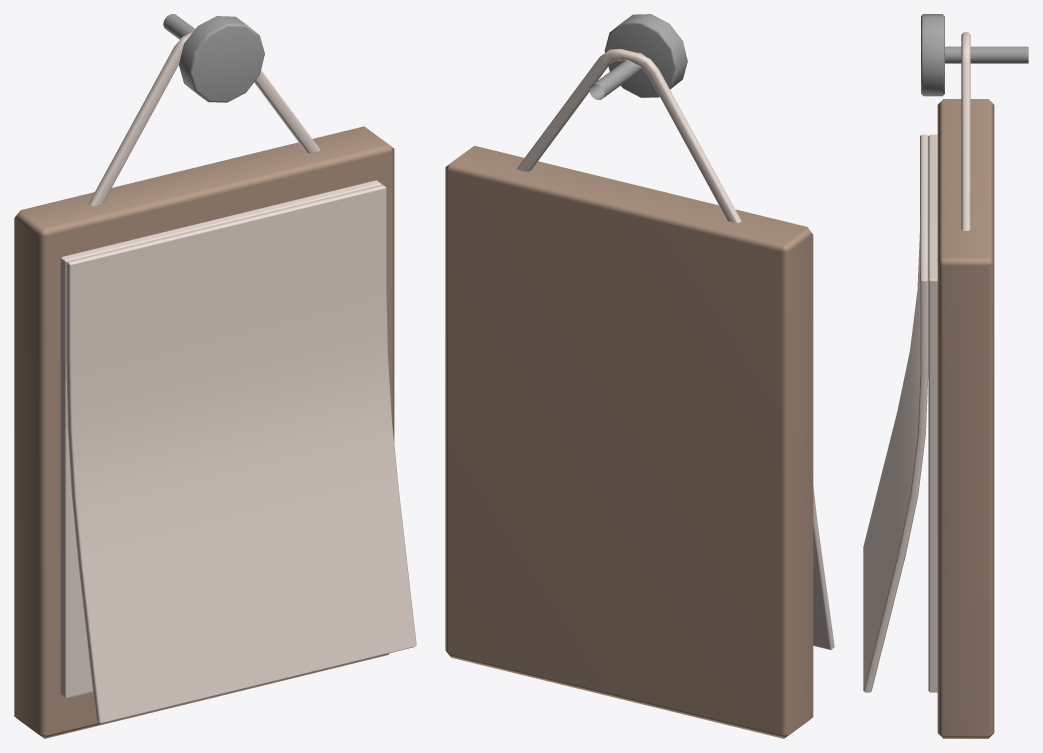
Rendered from Note_6.glb.
3 views of the same model, side by side, from view 1: azimuth 30°, elevation 25°; view 2: azimuth 150°, elevation 25°; view 3: azimuth 270°, elevation 25° (orthographic). The views are drawn at different scales.
Parts seen in each view (by area): view 1: Note_6; view 2: Note_6; view 3: Note_6.
Part boxes in pixels (<box>): Note_6: <box>14,14,416,738</box>; Note_6: <box>445,14,834,738</box>; Note_6: <box>863,14,1028,738</box>.
Size of the model in its own units: 0.3171 by 0.5797 by 0.1351.
Materials: 1 (1 with a texture image).
